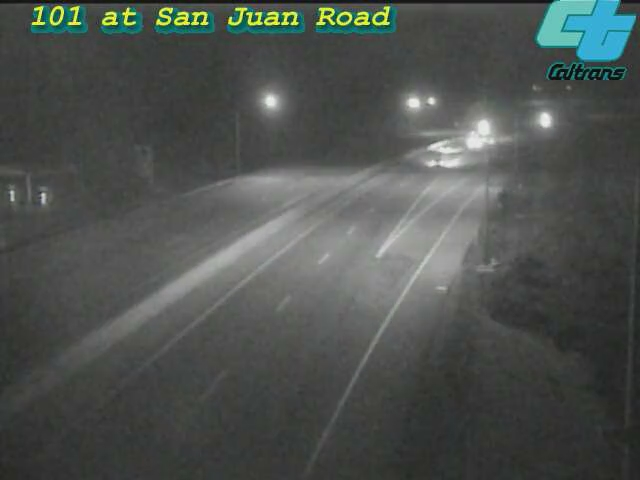vehicle: (455, 104, 505, 154), (517, 95, 567, 145), (452, 117, 502, 167), (421, 123, 471, 173), (418, 135, 468, 185)
